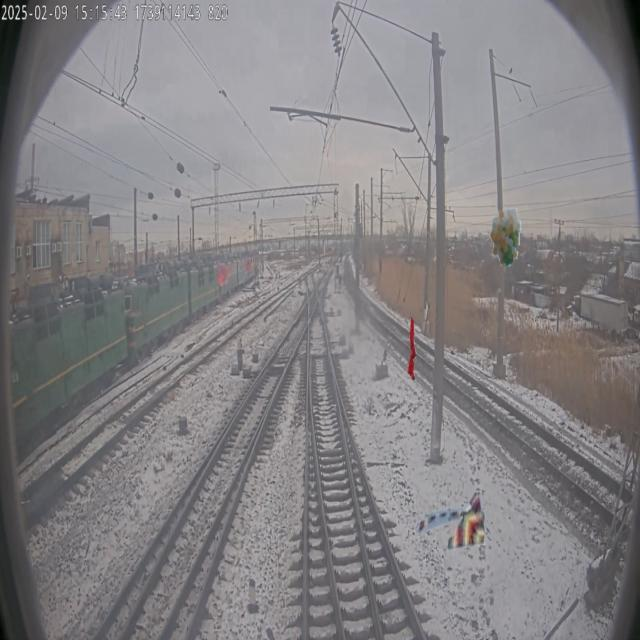balloon: (489, 202, 521, 266)
floating object: (417, 487, 490, 551), (407, 316, 417, 381)
